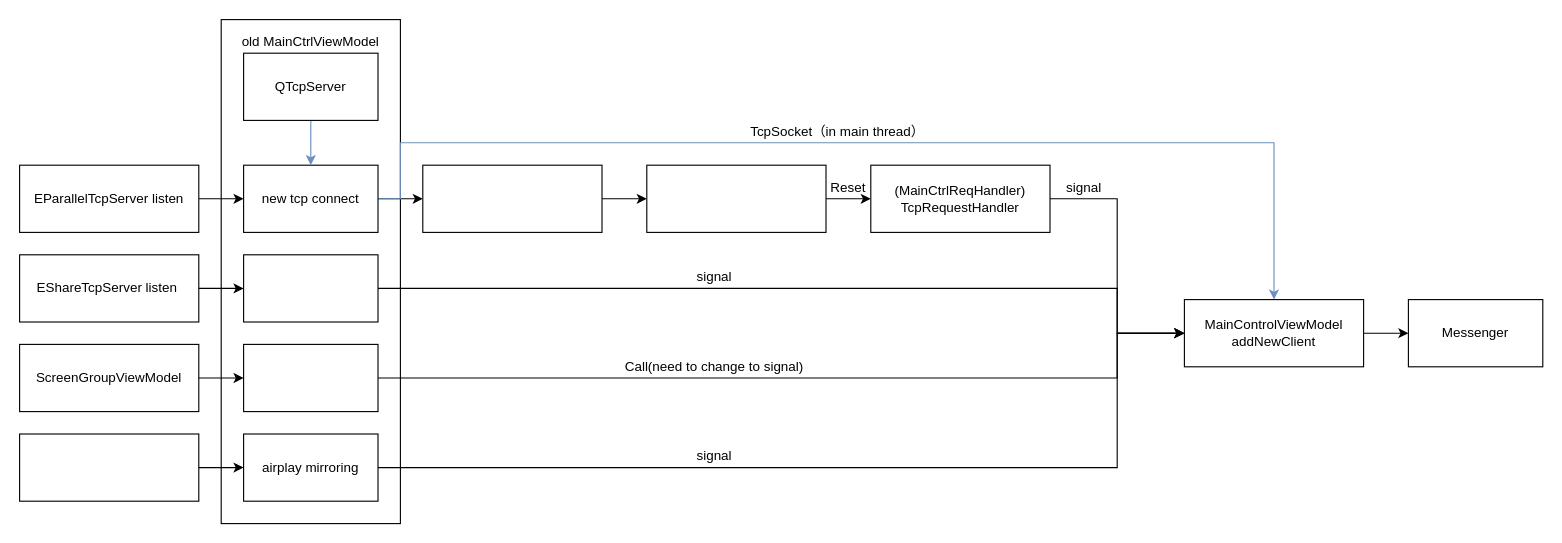
Image size: 1562x543. Some labels were removed from this diagram. Here are the shapes that lost their labels. From the top down, the centre of each, then its label:
At point (512, 198): "EparallelTcpConnectionPool".
At point (736, 198): "TcpConnectionHandler".
At point (310, 288): "dongle connect".
At point (310, 377): "start a screengroup".
At point (108, 467): "EShareManager:: MirrorSetMirroingUserInfo".
